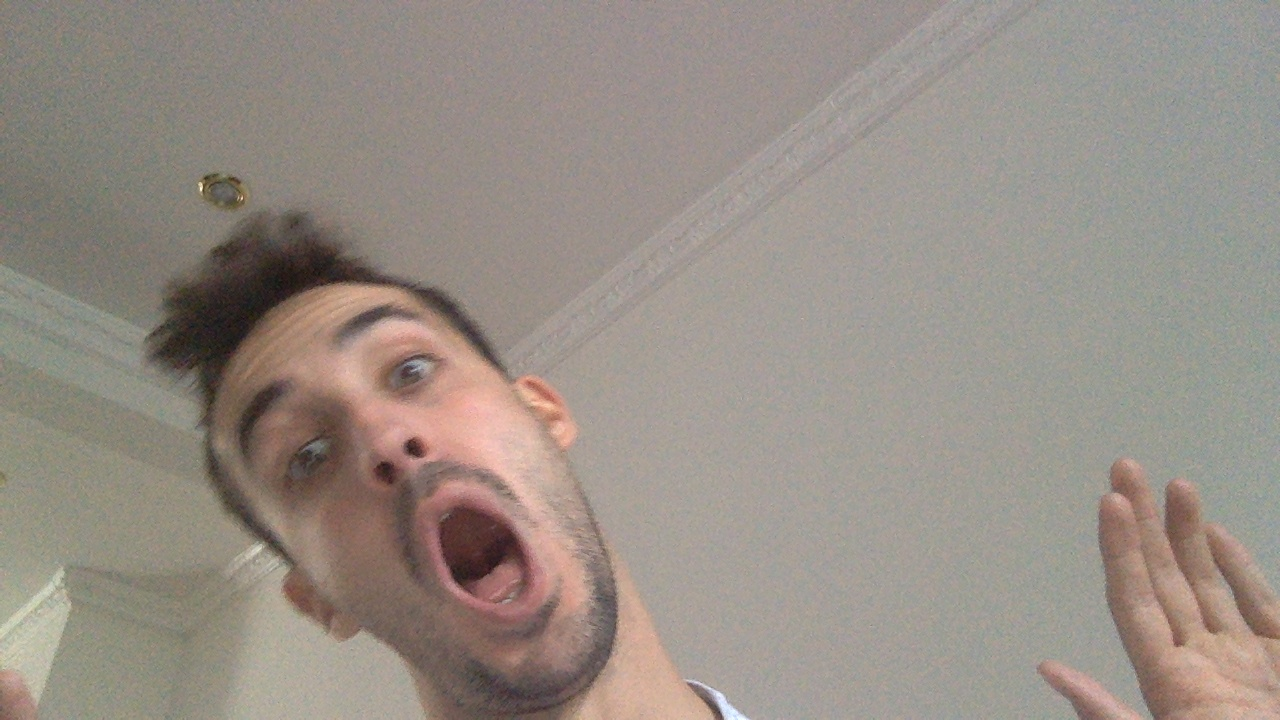surprise: (425, 493, 554, 621)
